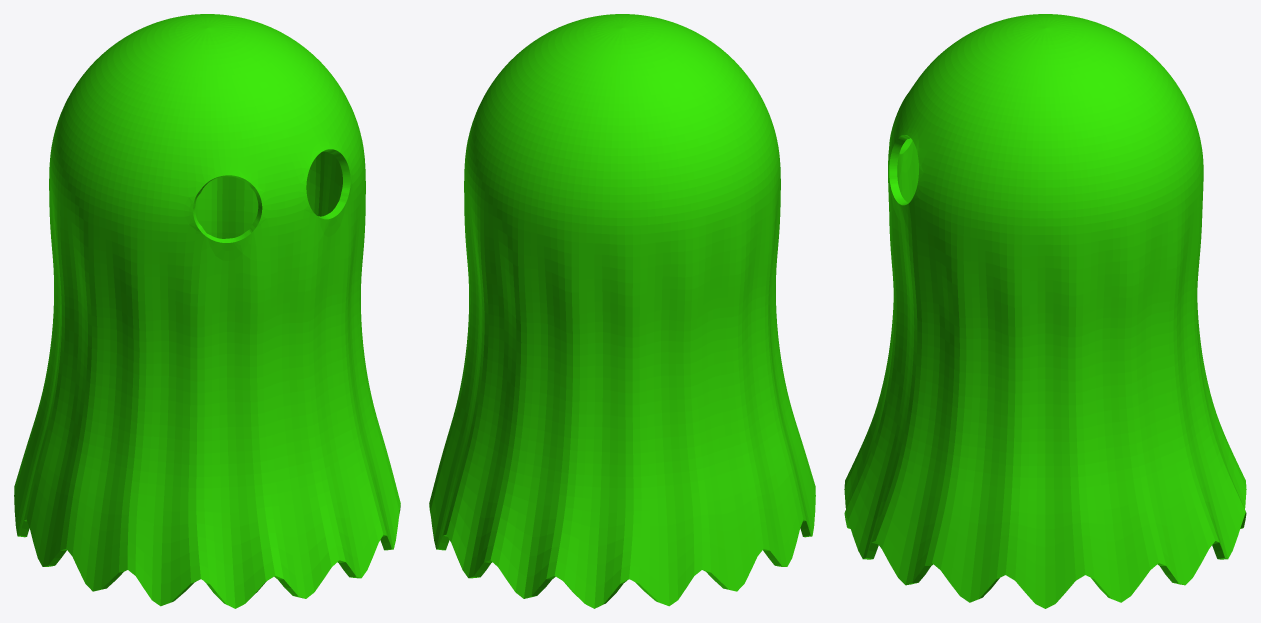
The model's file is ghost_model.fbx.
3 views of the same model, side by side, from view 1: azimuth 30°, elevation 25°; view 2: azimuth 150°, elevation 25°; view 3: azimuth 270°, elevation 25° (orthographic).
Parts seen in each view (by area): view 1: Sphere; view 2: Sphere; view 3: Sphere.
Part boxes in pixels (left/top/right/bottom): Sphere: left=14, top=14, right=400, bottom=608; Sphere: left=429, top=14, right=815, bottom=608; Sphere: left=844, top=14, right=1246, bottom=608.
Size of the model in its own units: 238 by 345 by 250.
